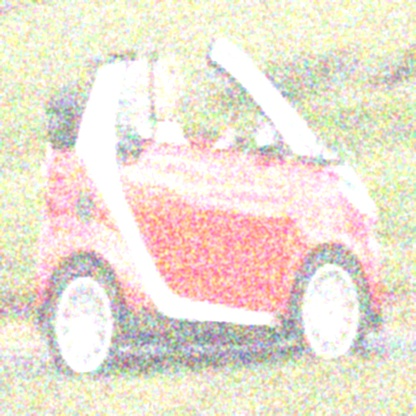Vehicle: (34, 44, 386, 389)
